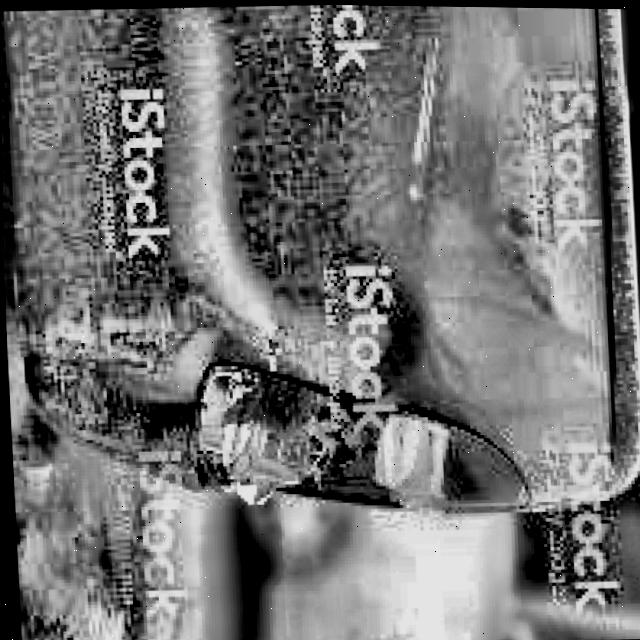tail_lamp: (199, 372, 377, 510)
